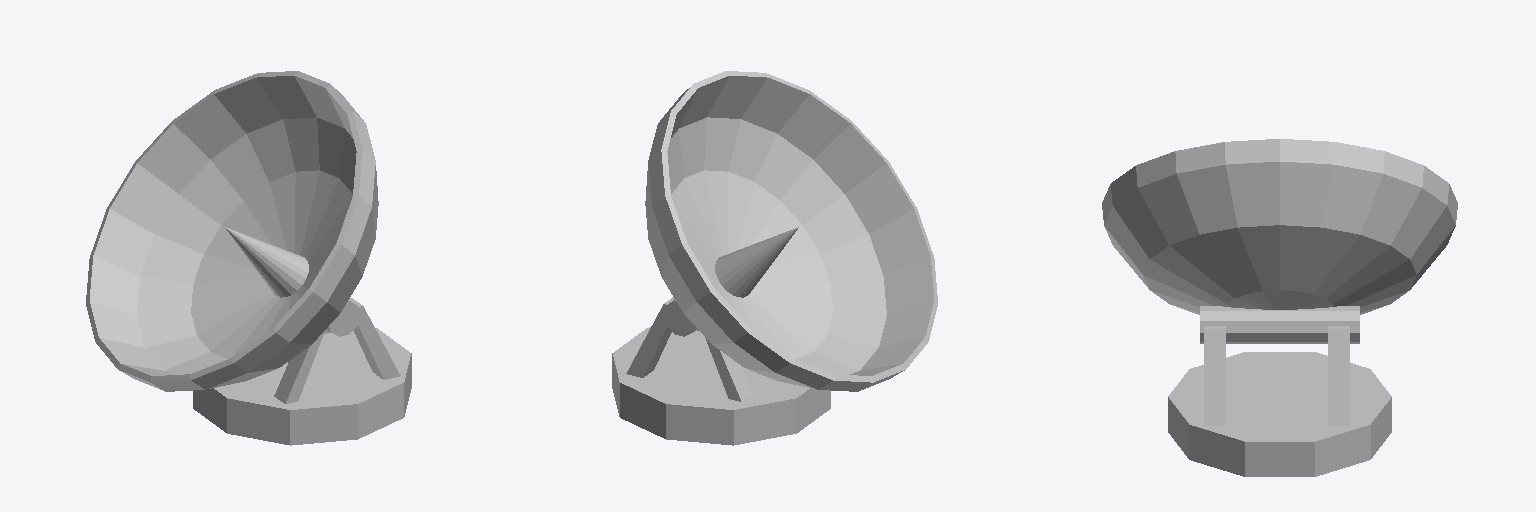
Rendered from disc.obj.
3 renders of one model, left to right at view 1: azimuth 30°, elevation 25°; view 2: azimuth 150°, elevation 25°; view 3: azimuth 270°, elevation 25°, orthographic.
Visible parts, largest first — view 1: polySurface4; view 2: polySurface4; view 3: polySurface4.
Part boxes in pixels (bbox=[...]): polySurface4: bbox=[86, 71, 411, 445]; polySurface4: bbox=[612, 71, 937, 445]; polySurface4: bbox=[1102, 139, 1457, 476].
Bounding box in the file's own units: 16.6 × 17.65 × 18.52.